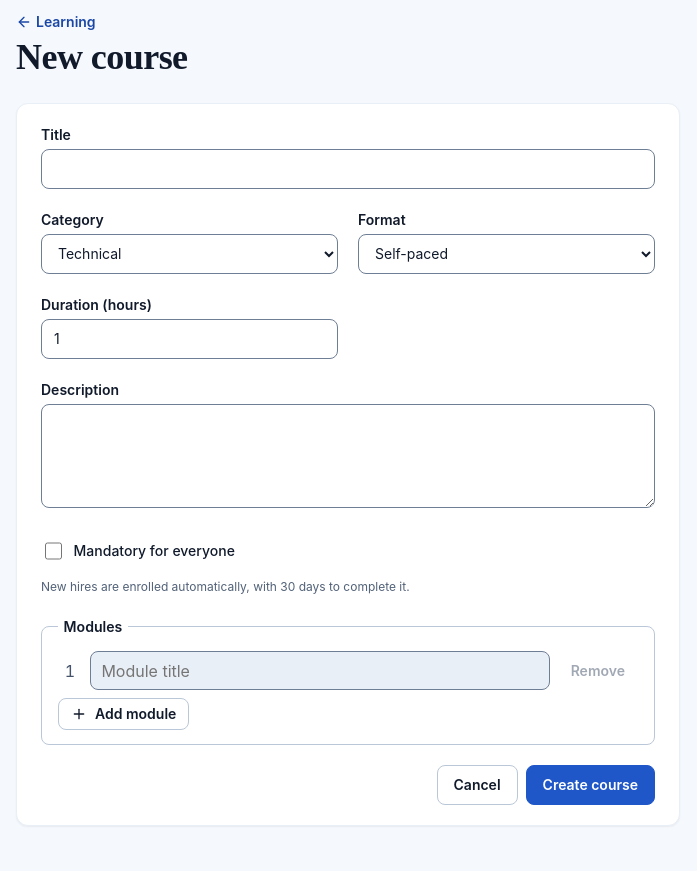
Test: CourseFormComponent › should add and remove modules, keeping at least one
The image size is (697, 871).
Click the button "Add module". click: (124, 714)
box: [58,698,189,730]
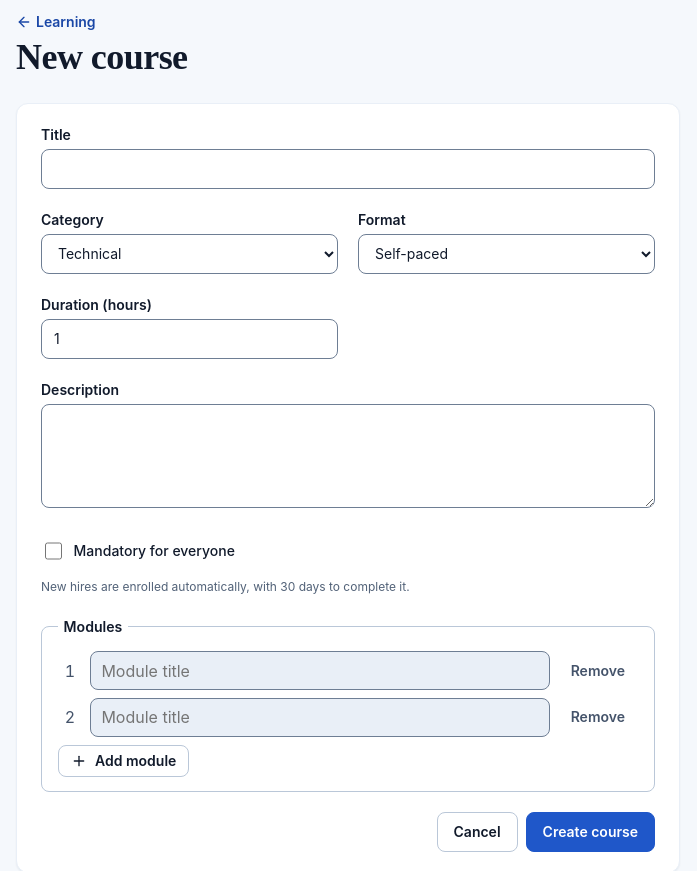
Expected: the number of elements with class "module-row" is 2, [58,651,638,690]; [58,698,638,737]
Click the 1st button "Remove". click: (598, 671)
box: [558,655,638,687]
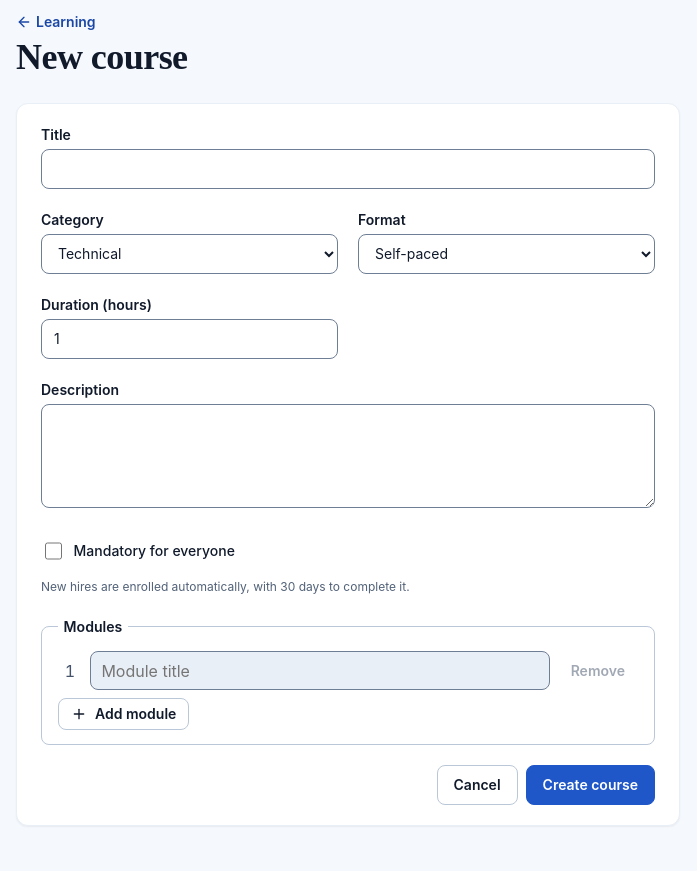
Expected: the number of elements with class "module-row" is 1, [58,651,638,690]
Expected: the button "Remove" is disabled, [558,655,638,687]
